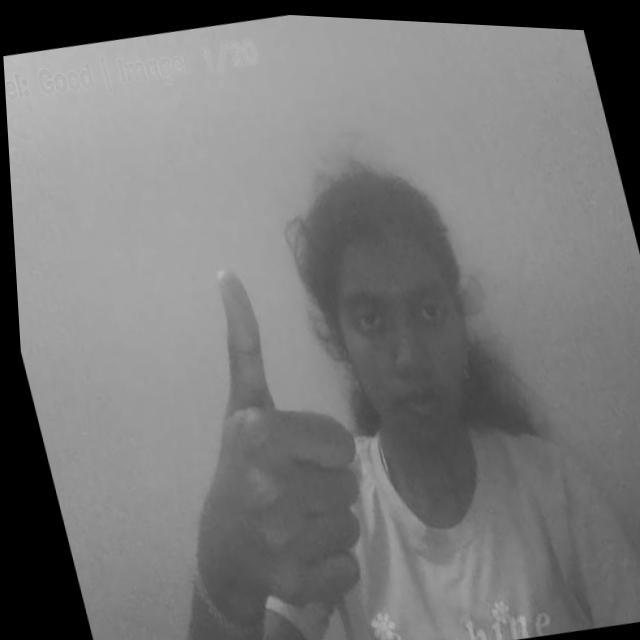Good: (141, 243, 385, 622)
